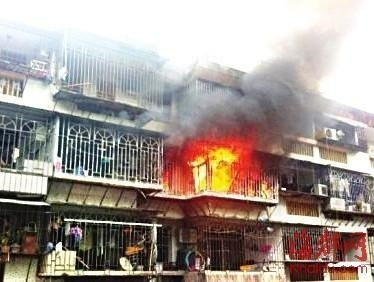fire: (187, 143, 239, 192)
